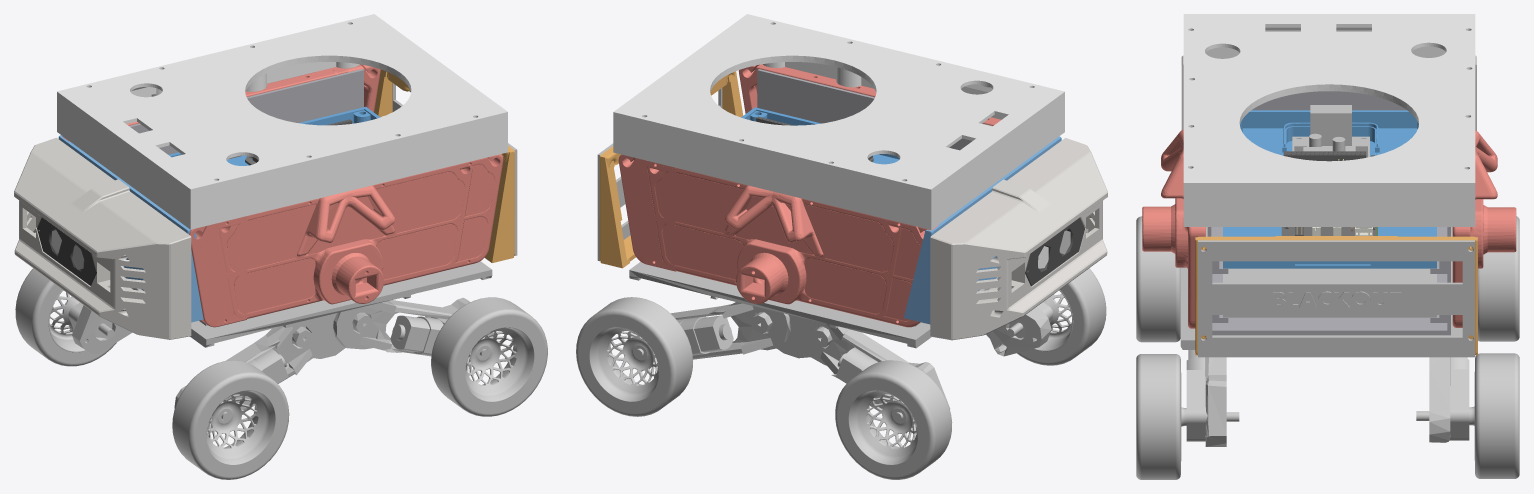
File: rover.glb
3 renders of one model, left to right at view 1: azimuth 30°, elevation 25°; view 2: azimuth 150°, elevation 25°; view 3: azimuth 270°, elevation 25°, orthographic. The views are drawn at different scales.
Size of the model in its own units: 28.39 by 18.83 by 21.31.
